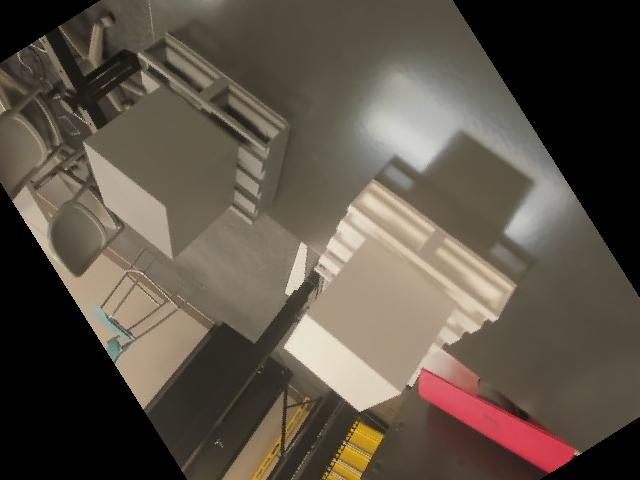grey pallet: (74, 28, 297, 263)
white pallet: (275, 173, 522, 417)
